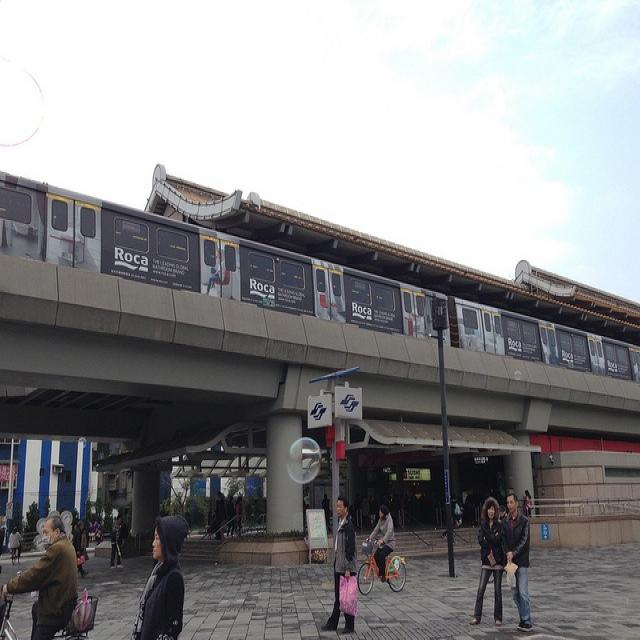body: (1, 513, 80, 639), (126, 511, 192, 638), (320, 493, 360, 636), (467, 493, 508, 627), (499, 492, 534, 633), (382, 492, 486, 539), (364, 502, 395, 582), (497, 484, 520, 565), (200, 244, 233, 300), (220, 489, 247, 536), (71, 519, 91, 580), (109, 512, 126, 572), (86, 515, 117, 545), (70, 514, 85, 570), (213, 489, 227, 543), (6, 525, 23, 563), (367, 493, 379, 532), (352, 489, 363, 531), (4, 501, 13, 544), (522, 489, 533, 524), (76, 517, 87, 551), (320, 492, 330, 527), (120, 516, 128, 559)
